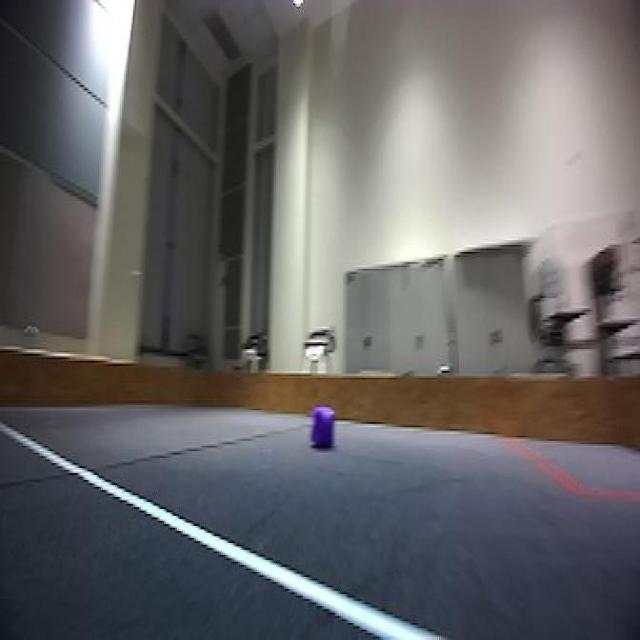frc_cube: (309, 400, 338, 449)
